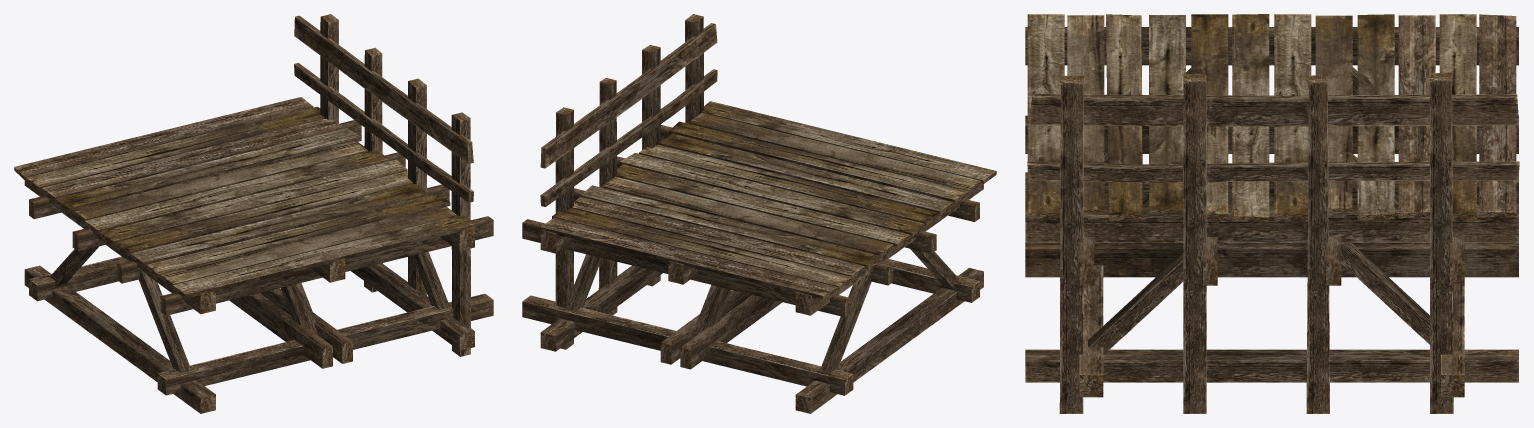
File: WoodBridgeRight.dae
The picture shows the model from 3 angles, left to right: view 1: azimuth 30°, elevation 25°; view 2: azimuth 150°, elevation 25°; view 3: azimuth 270°, elevation 25°; orthographic projection. The views are drawn at different scales.
Visible parts, largest first — view 1: WoodBridgeRight; view 2: WoodBridgeRight; view 3: WoodBridgeRight.
Part boxes in pixels (x1=…): WoodBridgeRight: x1=14, y1=14, x2=493, y2=413; WoodBridgeRight: x1=522, y1=14, x2=996, y2=413; WoodBridgeRight: x1=1025, y1=14, x2=1519, y2=413.
Bounding box in the file's own units: 4.3 × 2.99 × 4.01.
Materials: 1 (1 with a texture image).
